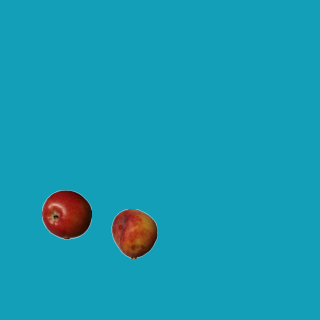Apple Braeburn: (41, 189, 91, 239)
Peach: (109, 208, 159, 258)
